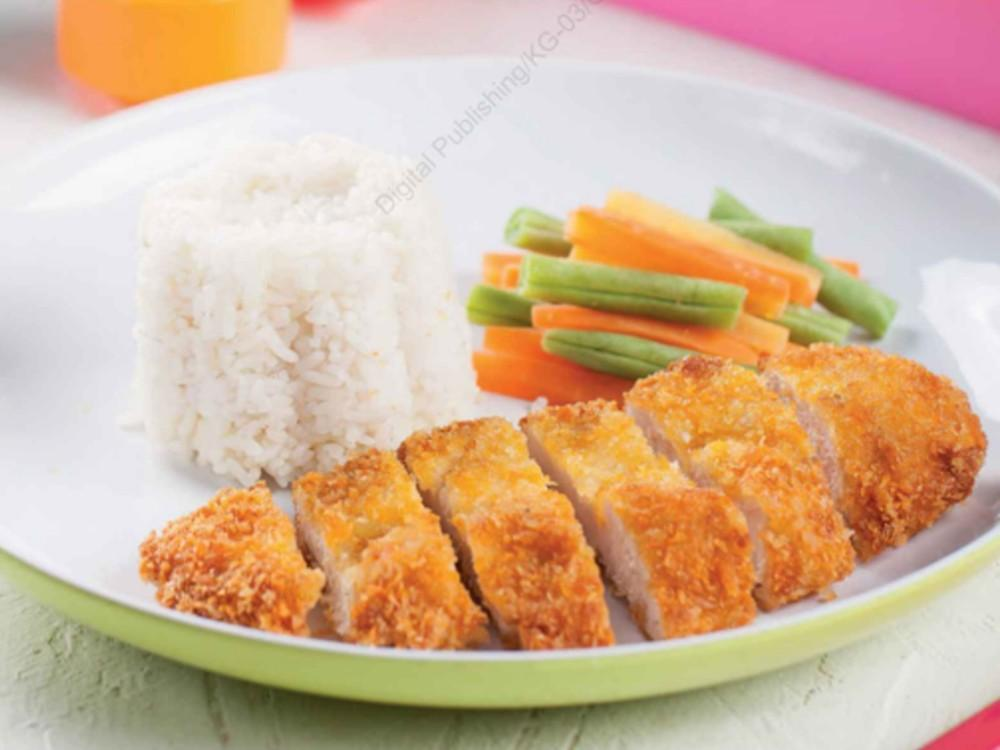buah_sayur_lainnya: (544, 276, 687, 303)
buah_sayur_vitA: (608, 223, 704, 262)
daging: (324, 473, 825, 599)
makanan_berpati: (180, 185, 404, 395)
